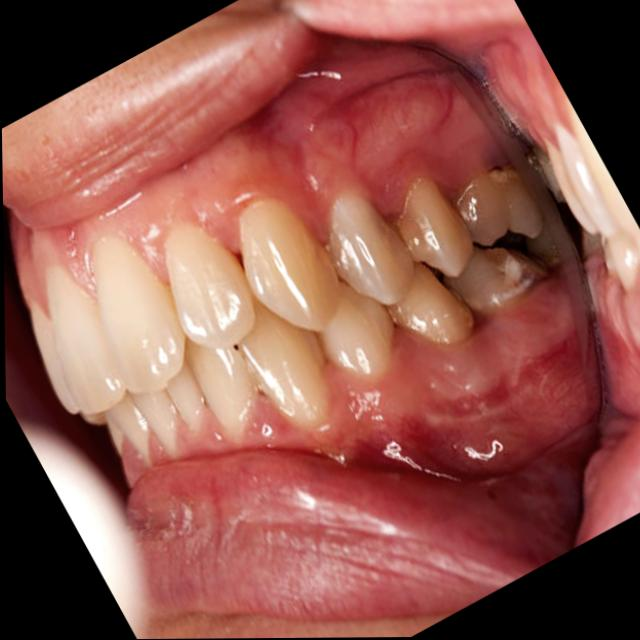gingivitis: (11, 39, 597, 477)
